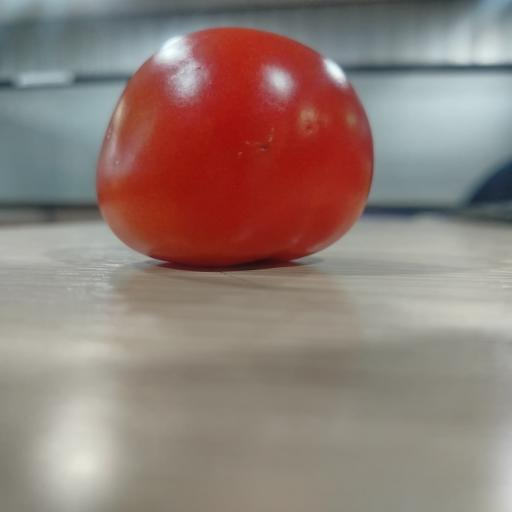ripe: (96, 28, 373, 266)
